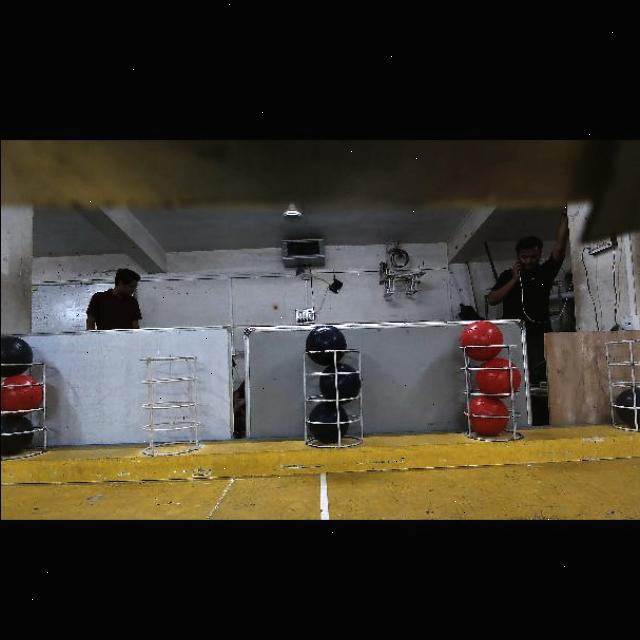P: (318, 362, 360, 403), (306, 325, 346, 366), (309, 401, 349, 441), (0, 414, 33, 455), (0, 335, 32, 377), (615, 388, 640, 426)
R: (0, 374, 42, 415), (460, 321, 503, 360), (468, 396, 508, 436), (476, 358, 519, 395)
S: (138, 351, 206, 461), (461, 336, 522, 439), (306, 348, 360, 447), (0, 360, 46, 456), (600, 334, 640, 438)
